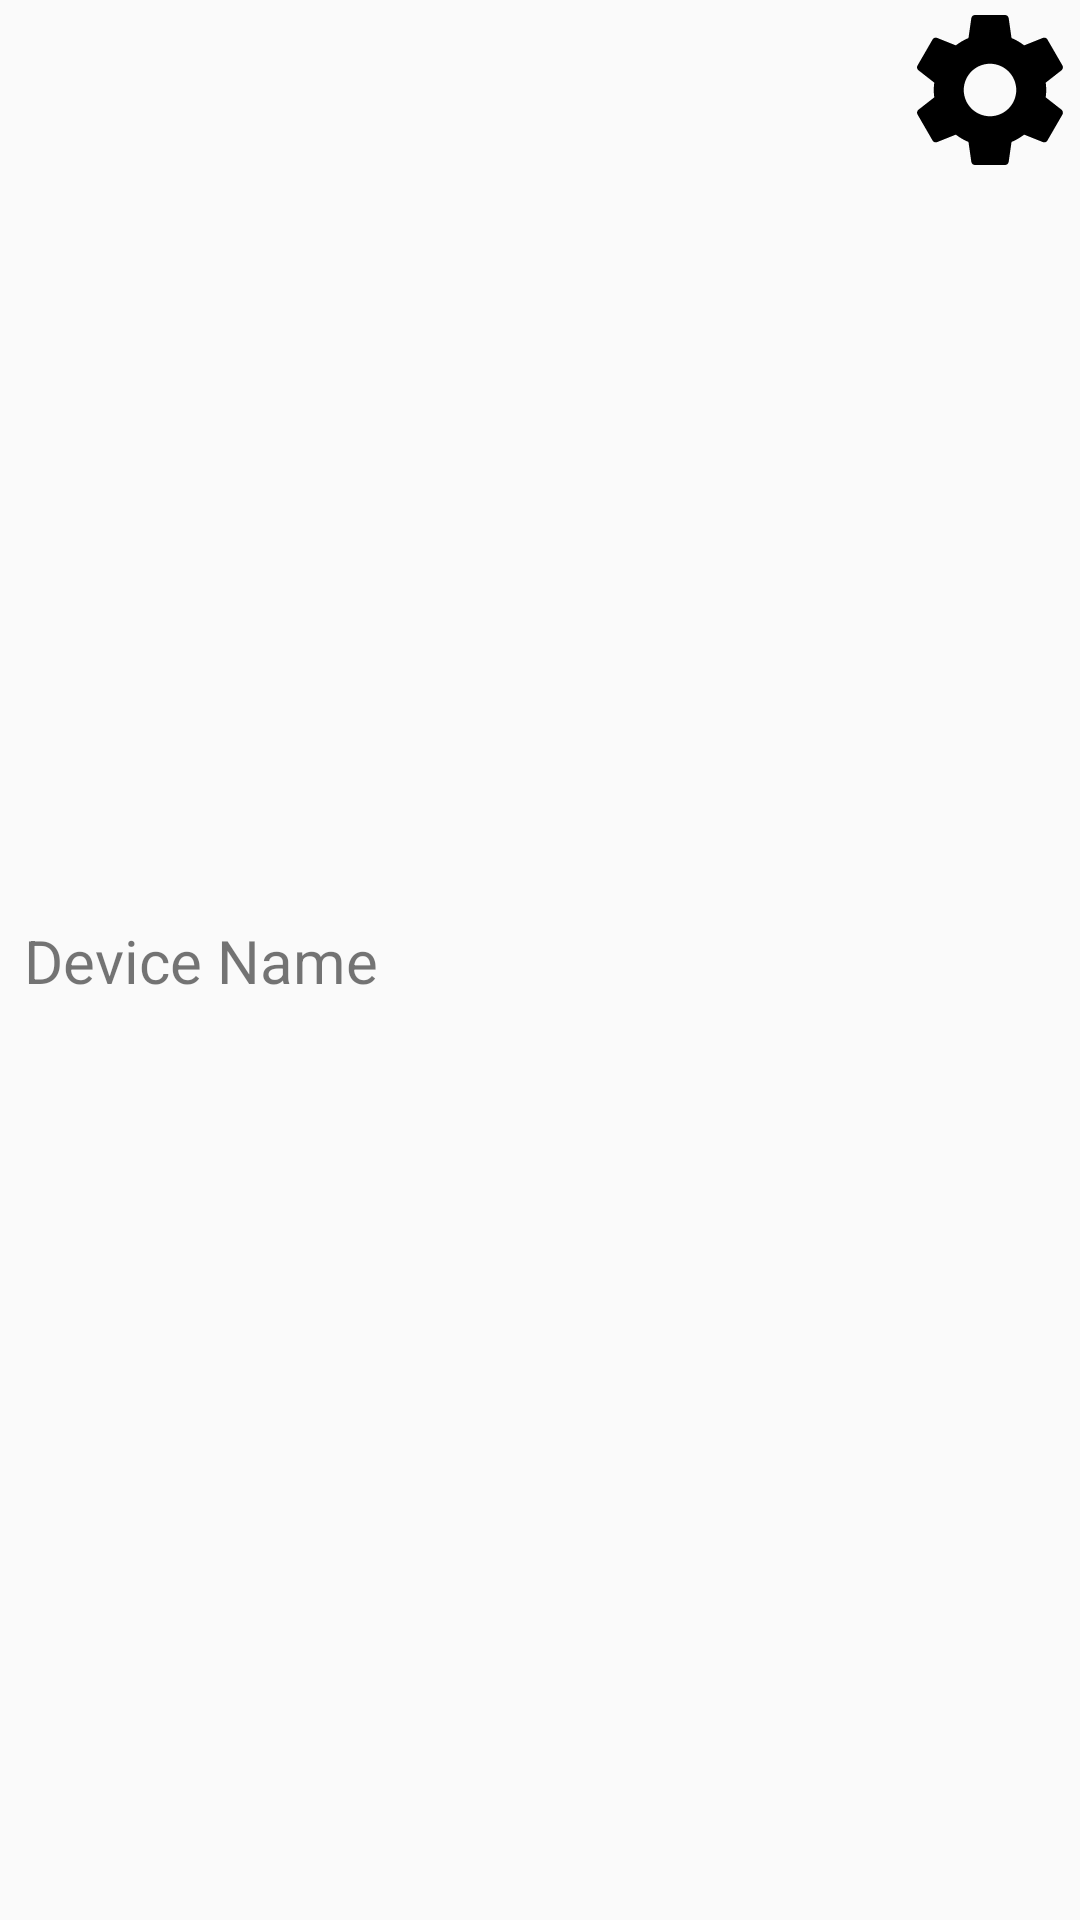

Icons on this 1080x1920 Android screen, each with the point to tap as (x,y):
settings: (990,90)
